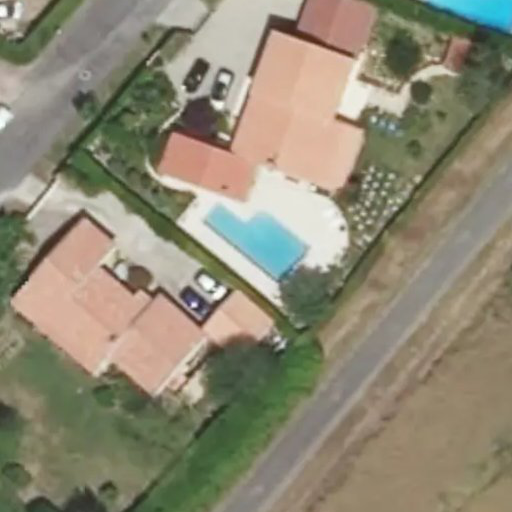pool: (200, 219, 311, 245)
